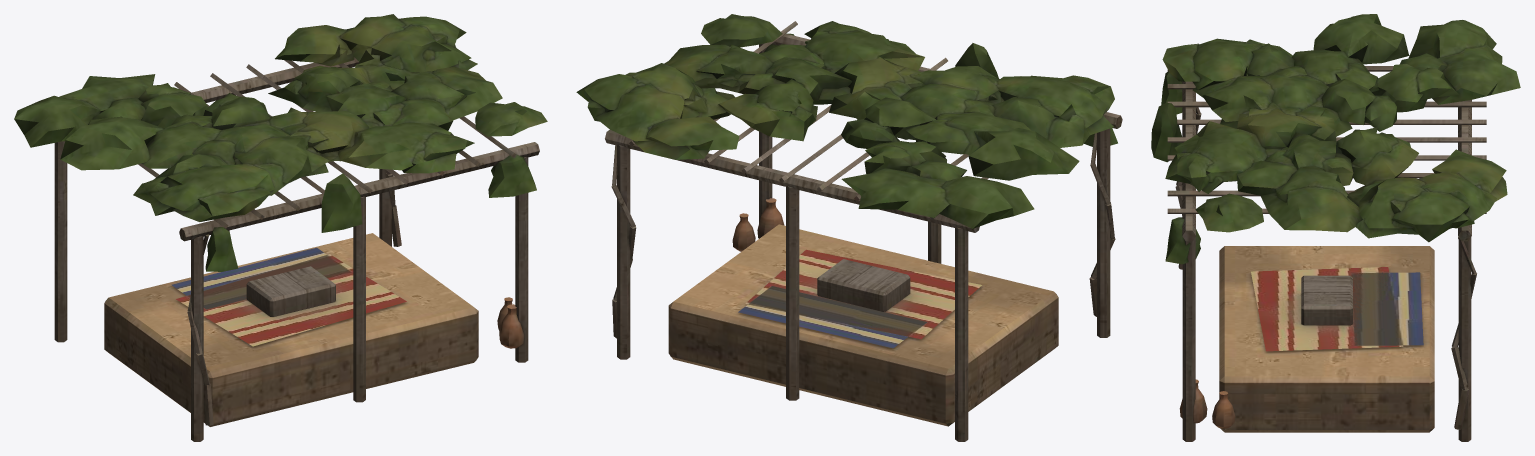
Rendered from oh_pergola.glb.
3 views of the same model, side by side, from view 1: azimuth 30°, elevation 25°; view 2: azimuth 150°, elevation 25°; view 3: azimuth 270°, elevation 25° (orthographic). The views are drawn at different scales.
Visible parts, largest first — view 1: oh_pergola; view 2: oh_pergola; view 3: oh_pergola.
Part boxes in pixels (x1=…): oh_pergola: x1=14, y1=14, x2=547, y2=441; oh_pergola: x1=576, y1=14, x2=1122, y2=441; oh_pergola: x1=1151, y1=14, x2=1520, y2=441.
Size of the model in its own units: 5.96 by 3.41 by 4.29.
Materials: 1 (1 with a texture image).
